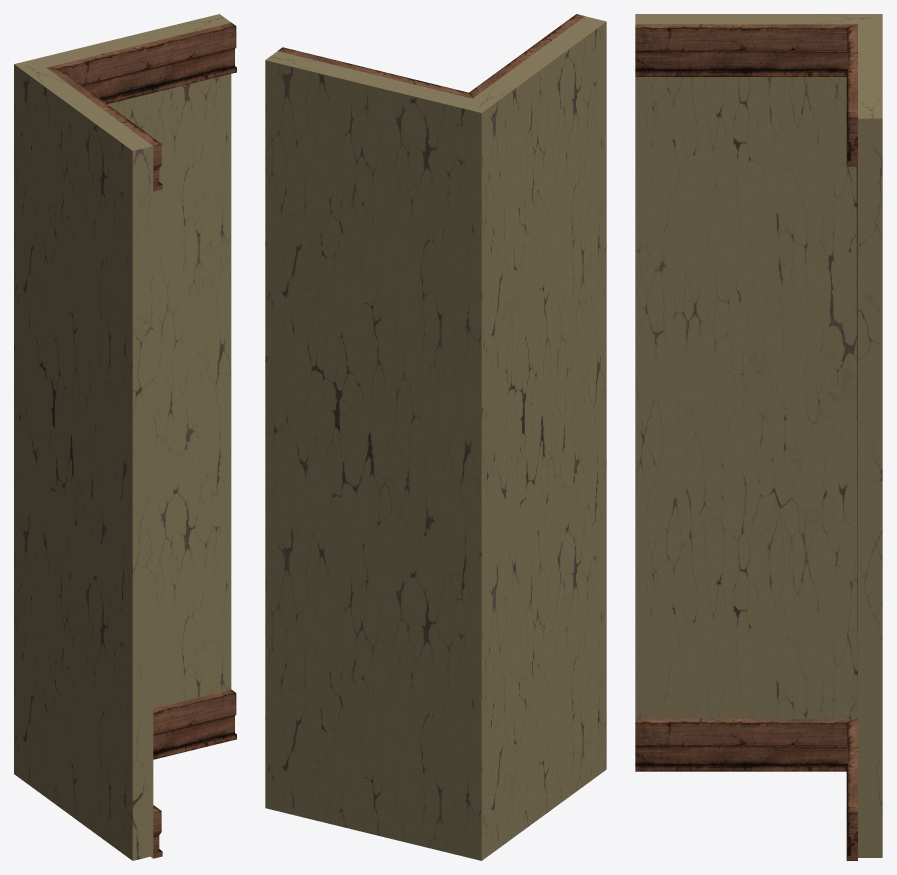
The model's file is Wall_CornerIn_1m_C.fbx.
3 views of the same model, side by side, from view 1: azimuth 30°, elevation 25°; view 2: azimuth 150°, elevation 25°; view 3: azimuth 270°, elevation 25° (orthographic). The views are drawn at different scales.
Parts seen in each view (by area): view 1: Wall_CornerIn_1m_A.001; view 2: Wall_CornerIn_1m_A.001; view 3: Wall_CornerIn_1m_A.001.
Boxes of the visible parts, x1,y1,x2,y2 form: Wall_CornerIn_1m_A.001: (14, 14, 236, 860); Wall_CornerIn_1m_A.001: (265, 14, 606, 860); Wall_CornerIn_1m_A.001: (635, 14, 882, 860).
Bounding box in the file's own units: 1 × 3.31 × 1.
